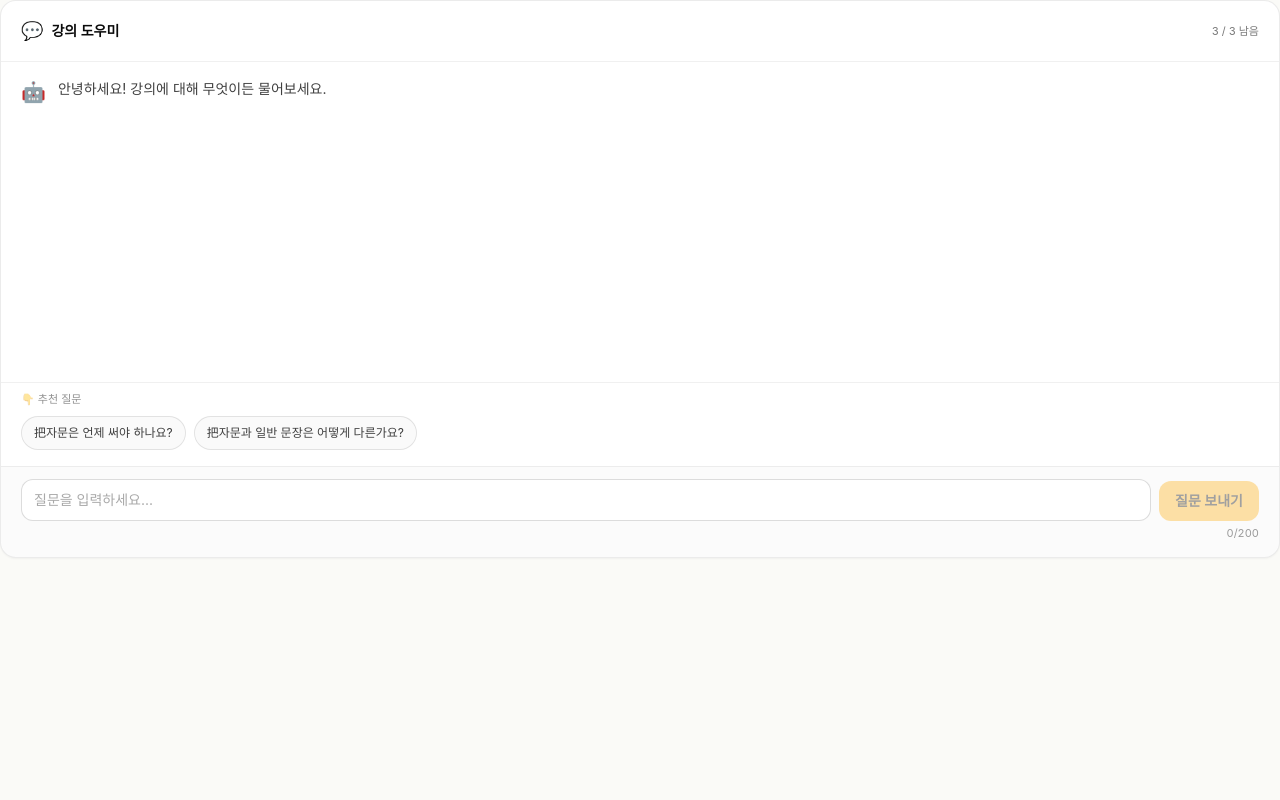
Test: QASimulator › answers an on-topic suggested question with source citation
The width and height of the screenshot is (1280, 800).
Click the button with test id "demo-suggested-suggested.socialQ1" at (103, 432), box [21, 416, 186, 450]
Wait 800 ms
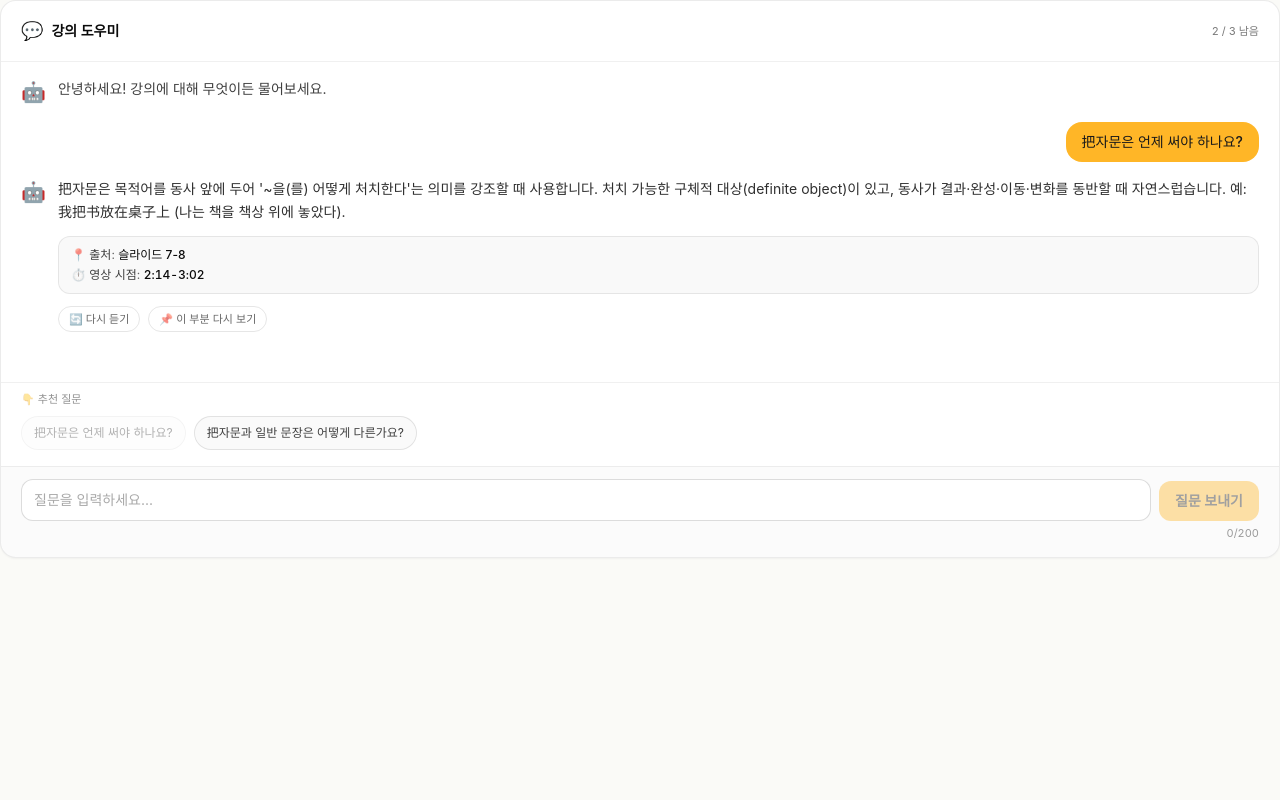
Now the element with test id "demo-answer-ontopic" is shown, box [21, 178, 1259, 332]
Now the text "슬라이드 7-8" is shown, box [118, 246, 186, 262]
Now the text "2:14-3:02" is shown, box [144, 266, 205, 282]
